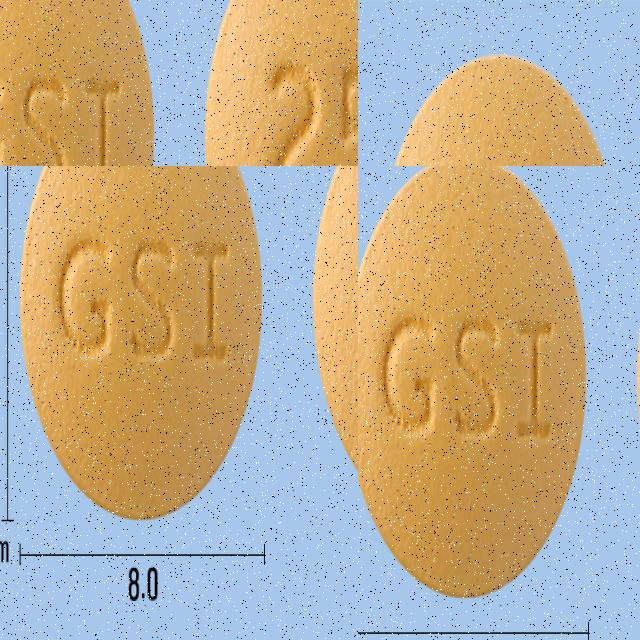Letroxin: (367, 58, 613, 166)
Teva Azathioprine Tab: (192, 0, 358, 166), (0, 46, 197, 166)
Vfend Tab: (358, 166, 586, 599), (19, 166, 262, 521)
